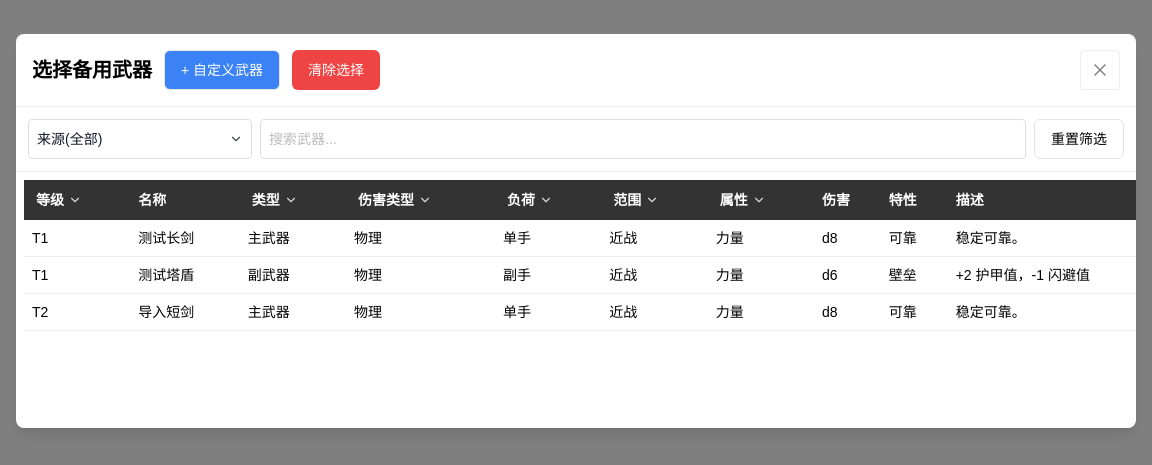
Test: equipment selection modals › filters weapons by multiple runtime sources without closing the menu
Click the button with aria-label "来源筛选": [140, 139] box [28,119,252,159]
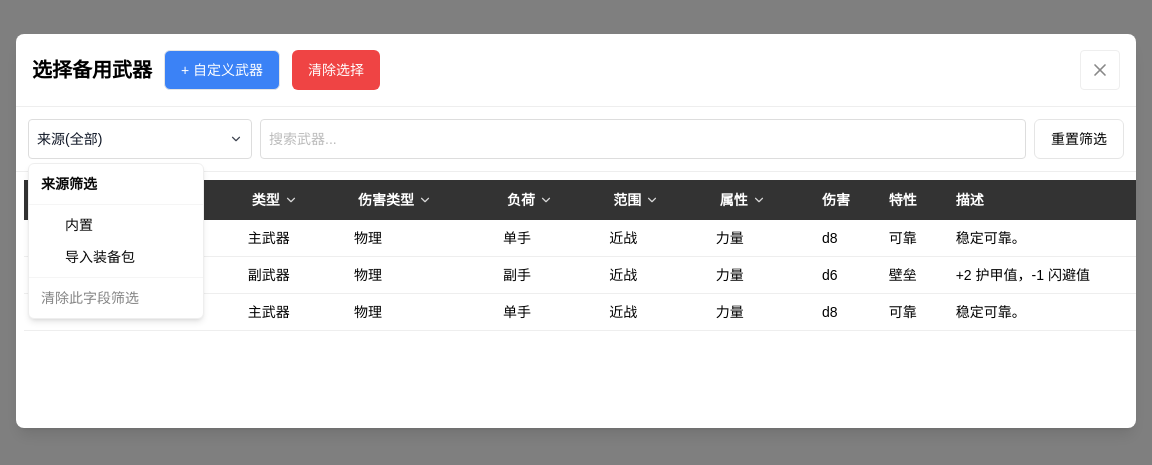
Click the menu item "内置": [79, 225] box [65,217,93,233]
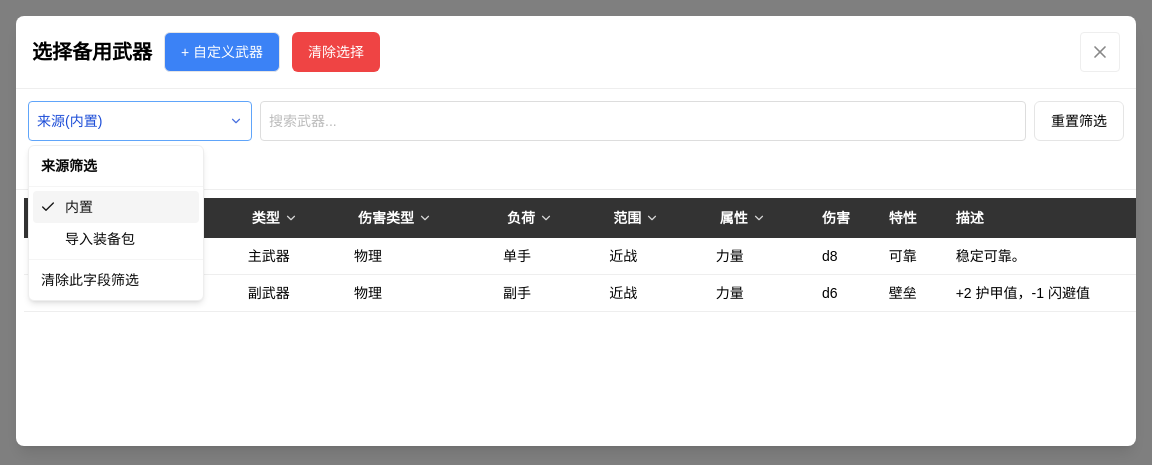
Click the menu item "导入装备包": [100, 239] box [65,231,135,247]
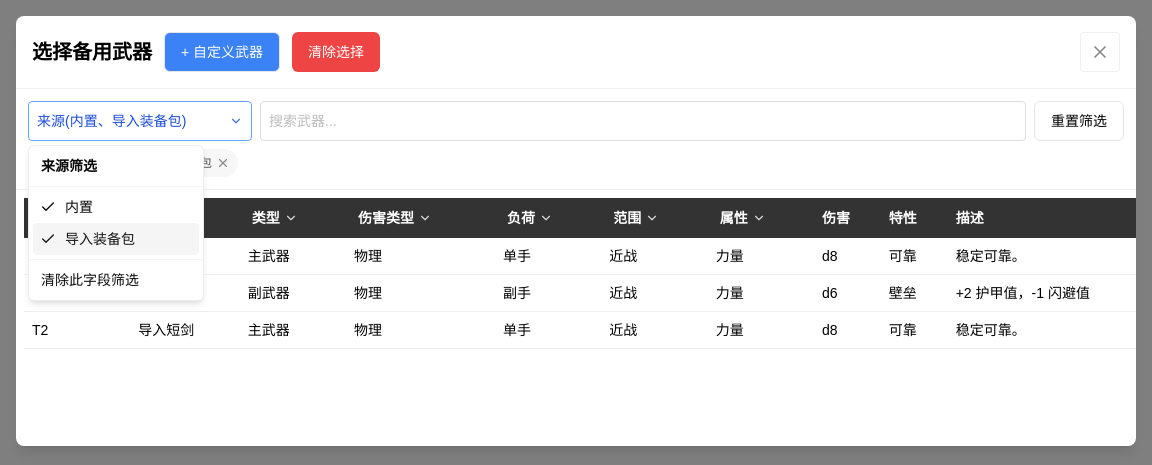
Expected: the text "来源：内置、导入装备包" is shown, [72,149,238,177]
